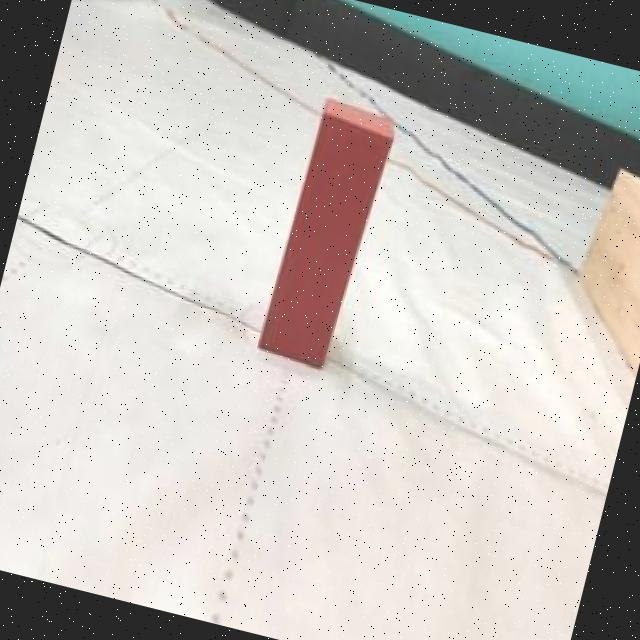redbox: (255, 92, 396, 371)
